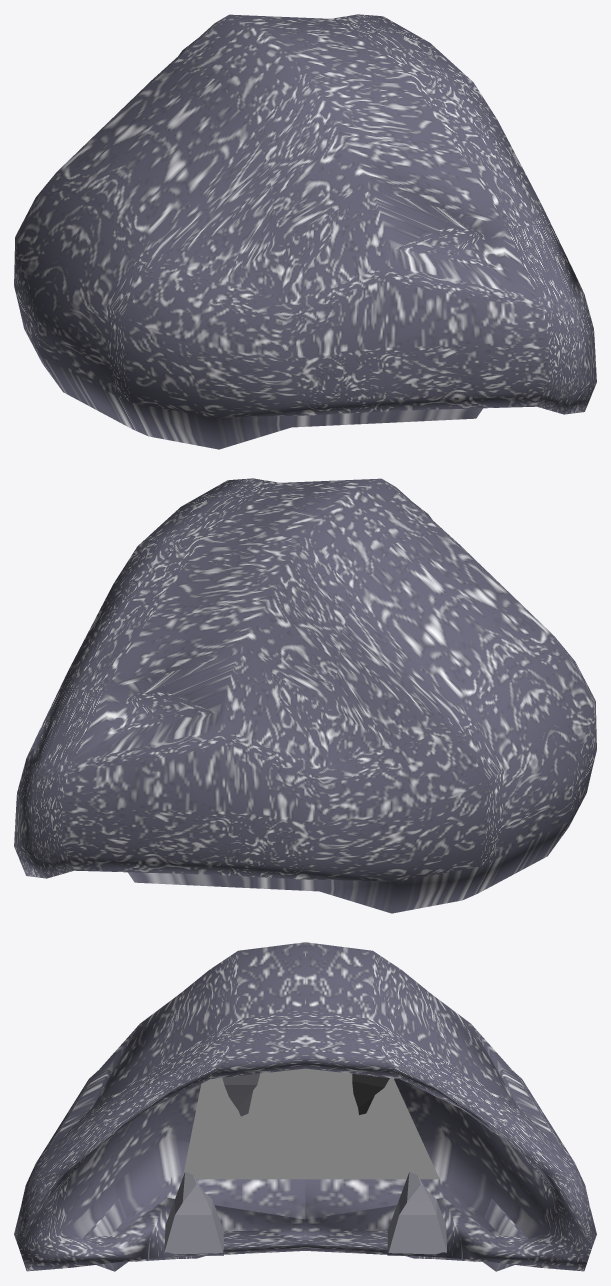
File: cavestone.fbx
3 views of the same model, one above another, from view 1: azimuth 30°, elevation 25°; view 2: azimuth 150°, elevation 25°; view 3: azimuth 270°, elevation 25° (orthographic). The views are drawn at different scales.
Parts seen in each view (by area): view 1: Plane.002; view 2: Plane.002; view 3: Plane.002.
Boxes of the visible parts, box(x1,y1,x2,y2) form: Plane.002: box(14, 14, 596, 449); Plane.002: box(14, 478, 596, 913); Plane.002: box(14, 942, 596, 1271).
Bounding box in the file's own units: 1707 × 1326 × 2463.
